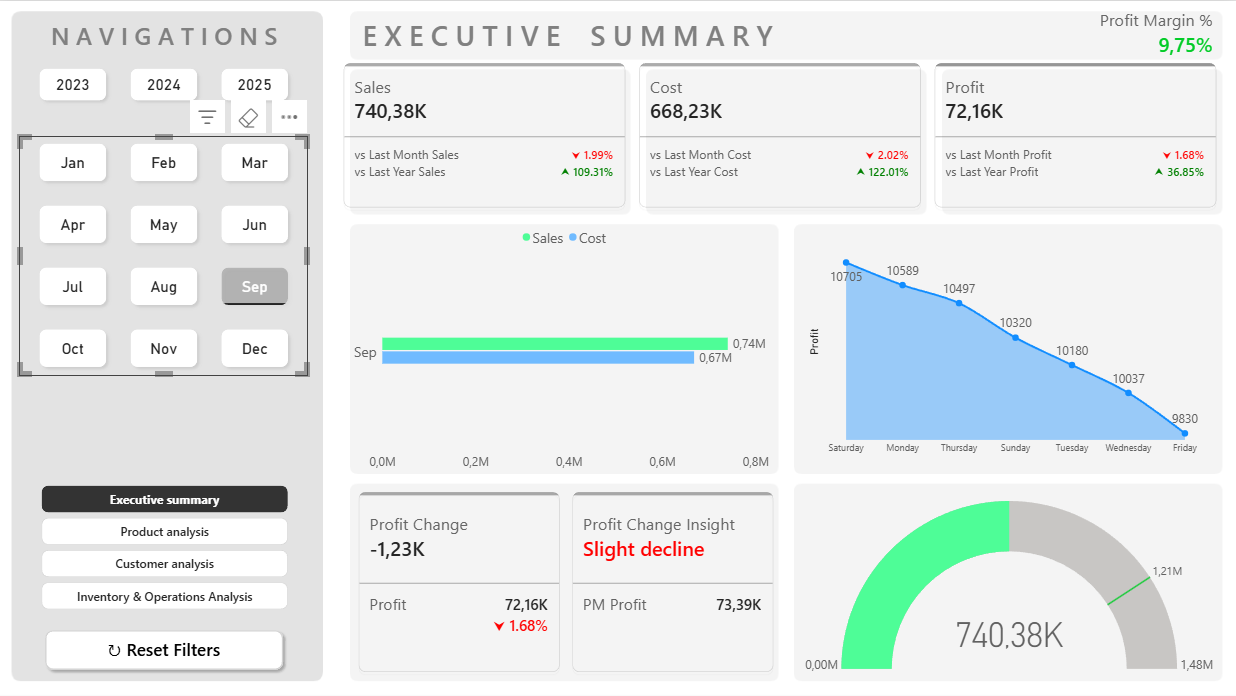

What the dashboard file says about the page in this screenshot:
{"tool":"powerbi","page":{"name":"Executive summary","canvas":[1920,1080],"ordinal":0},"visuals":[{"type":"cardVisual","fields":{"Data":["_Measures.Profit"]},"box":[1446.7,91.7,448.6,235.7],"z":0},{"type":"cardVisual","fields":{"Data":["_Measures.Cost"]},"box":[988.6,91.4,448.6,235.7],"z":1000},{"type":"advancedSlicerVisual","fields":{"Values":["DimDate.MonthName"]},"box":[32.5,210,450,372.5],"z":2000},{"type":"advancedSlicerVisual","fields":{"Values":["DimDate.Year"]},"box":[32.5,92.5,450,73.3],"z":3000},{"type":"cardVisual","fields":{"Data":["_Measures.Sales"]},"box":[530,91.4,448.6,235.7],"z":4000},{"type":"textbox","box":[64.2,27.5,385,55.8],"z":5000},{"type":"textbox","box":[564.2,23.3,643.3,60],"z":6000},{"type":"clusteredBarChart","fields":{"Y":["_Measures.Sales","_Measures.Cost"],"Category":["DimDate.MonthName"]},"box":[548.3,346.7,662.5,385],"z":7000},{"type":"lineChart","fields":{"Y":["_Measures.Sales","_Measures.Cost"],"Category":["DimDate.MonthName"]},"box":[550,352.5,658.3,377.5],"z":8000},{"type":"cardVisual","title":"dsdd","fields":{"Data":["_Measures.Profit Margin %"]},"box":[1686.7,12.5,213.3,77.5],"z":9000},{"type":"cardVisual","fields":{"Data":["_Measures.Profit Change","_Measures.Profit Change Insight"]},"box":[552.5,755,655,290],"z":10000},{"type":"gauge","fields":{"TargetValue":["_Measures.Target"],"Y":["_Measures.Sales"]},"box":[1247.5,761.7,642.5,290],"z":11000},{"type":"areaChart","fields":{"Y":["_Measures.Profit"],"Category":["DimDate.Weekday"]},"box":[1240,352.5,651.7,370],"z":12000},{"type":"actionButton","box":[65,967.5,385,77.5],"z":13000},{"type":"pageNavigator","box":[67.5,750,382.5,195],"z":14000}]}

Visuals, with their boxes in screenshot pixels (x1, y1, x2, y2), scaled from the page's 1920x1080 canvas onto the 1236x696 screenshot:
cardVisual - _Measures.Profit: select_region(931, 59, 1220, 211)
cardVisual - _Measures.Cost: select_region(636, 59, 925, 211)
advancedSlicerVisual - DimDate.MonthName: select_region(21, 135, 311, 375)
advancedSlicerVisual - DimDate.Year: select_region(21, 60, 311, 107)
cardVisual - _Measures.Sales: select_region(341, 59, 630, 211)
textbox: select_region(41, 18, 289, 54)
textbox: select_region(363, 15, 777, 54)
clusteredBarChart - _Measures.Sales x _Measures.Cost: select_region(353, 223, 779, 472)
lineChart - _Measures.Sales x _Measures.Cost: select_region(354, 227, 778, 470)
"dsdd" cardVisual: select_region(1086, 8, 1223, 58)
cardVisual - _Measures.Profit Change x _Measures.Profit Change Insight: select_region(356, 487, 777, 673)
gauge - _Measures.Target x _Measures.Sales: select_region(803, 491, 1217, 678)
areaChart - _Measures.Profit x DimDate.Weekday: select_region(798, 227, 1218, 466)
actionButton: select_region(42, 624, 290, 673)
pageNavigator: select_region(43, 483, 290, 609)
